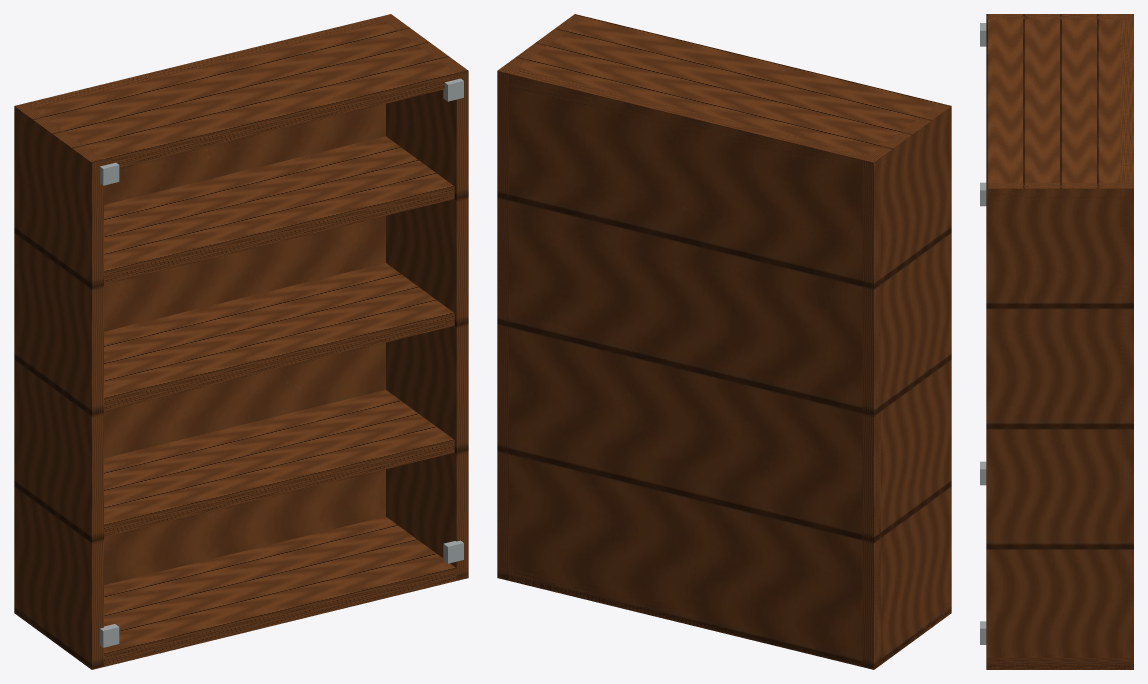
The model's file is bunker-shelter-construction-supply-shelving-9dfac48b__23337.glb.
3 renders of one model, left to right at view 1: azimuth 30°, elevation 25°; view 2: azimuth 150°, elevation 25°; view 3: azimuth 270°, elevation 25°, orthographic. The views are drawn at different scales.
Parts seen in each view (by area): view 1: supply-shelving; view 2: supply-shelving; view 3: supply-shelving.
Part boxes in pixels (x1,y1,x2,y2): supply-shelving: [14, 14, 468, 669]; supply-shelving: [497, 14, 951, 669]; supply-shelving: [980, 14, 1133, 669].
Size of the model in its own units: 1.4 by 1.8 by 0.521.
2 materials, 1 textured.
